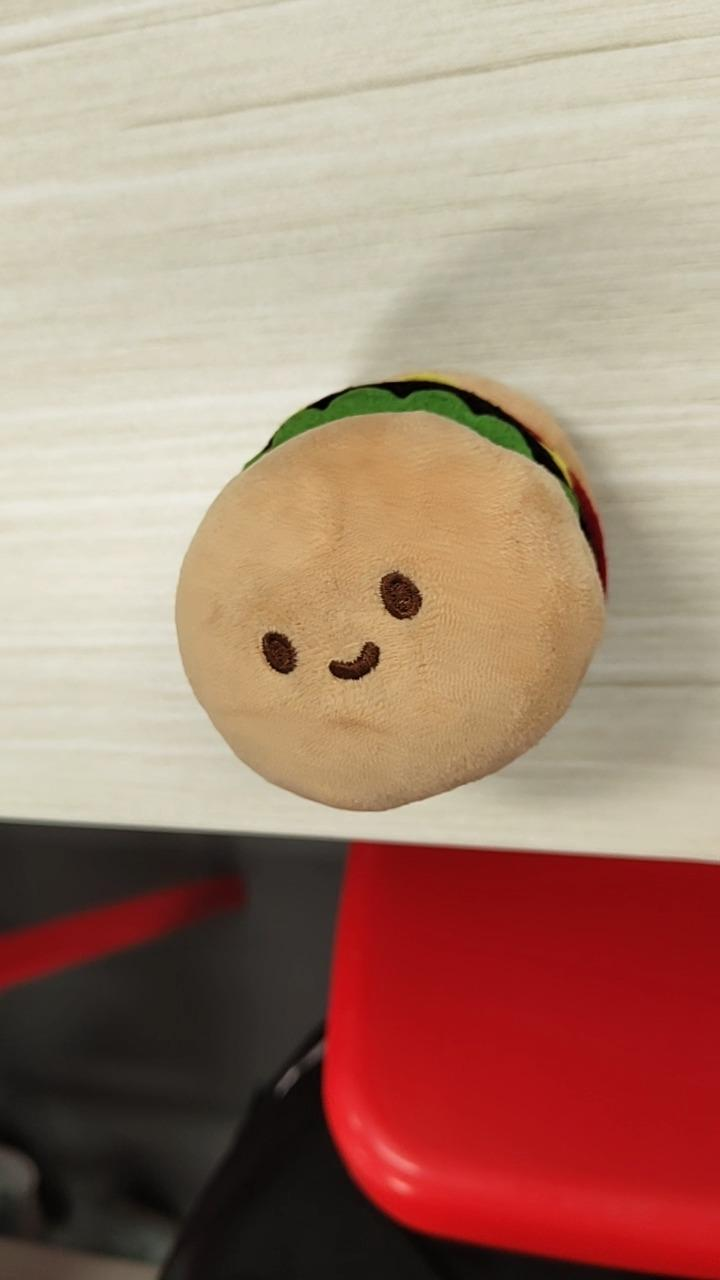hamburger: (172, 369, 609, 813)
